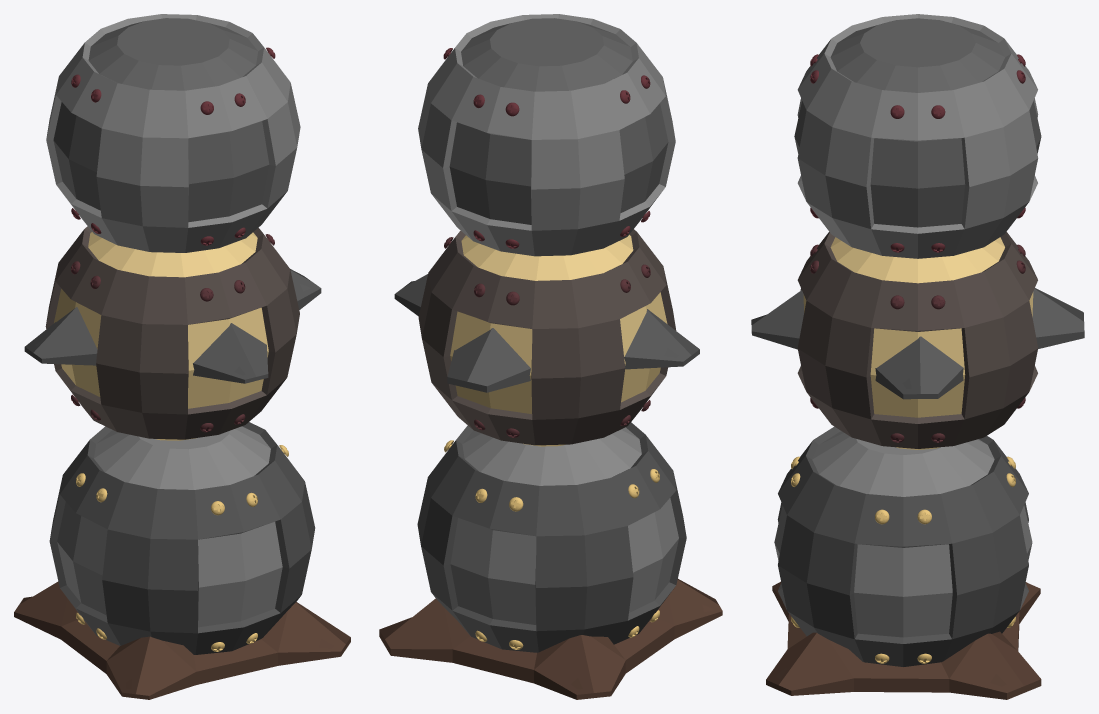
3 renders of one model, left to right at view 1: azimuth 30°, elevation 25°; view 2: azimuth 150°, elevation 25°; view 3: azimuth 270°, elevation 25°, orthographic. The views are drawn at different scales.
Parts seen in each view (by area): view 1: 球体.008, 球体.006, 球体.005; view 2: 球体.008, 球体.006, 球体.005; view 3: 球体.008, 球体.006, 球体.005.
Part boxes in pixels (box(x1,y1,x2,y2)): 球体.008: box(14, 422, 350, 699); 球体.006: box(46, 14, 300, 252); 球体.005: box(24, 226, 321, 440); 球体.008: box(379, 422, 722, 699); 球体.006: box(418, 14, 675, 256); 球体.005: box(394, 229, 699, 446); 球体.008: box(766, 426, 1041, 699); 球体.006: box(794, 14, 1041, 258); 球体.005: box(751, 232, 1084, 449).
Size of the model in its own units: 253 by 509 by 253.
